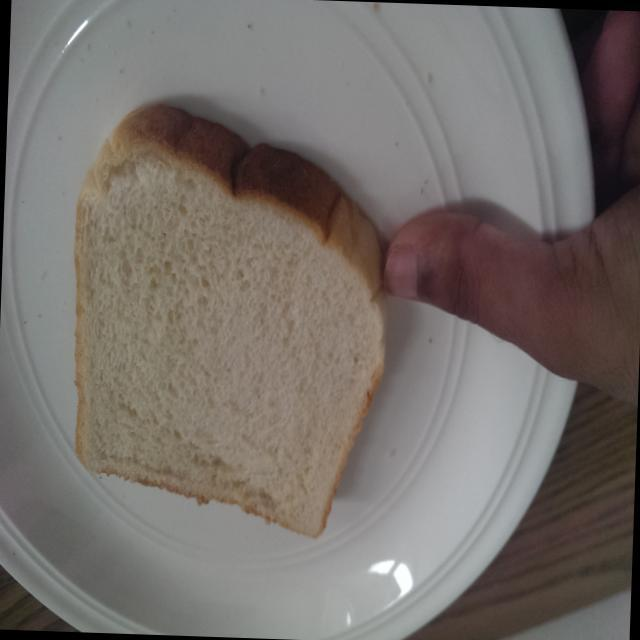Bread: (58, 94, 395, 544)
Finger: (374, 156, 508, 345)
